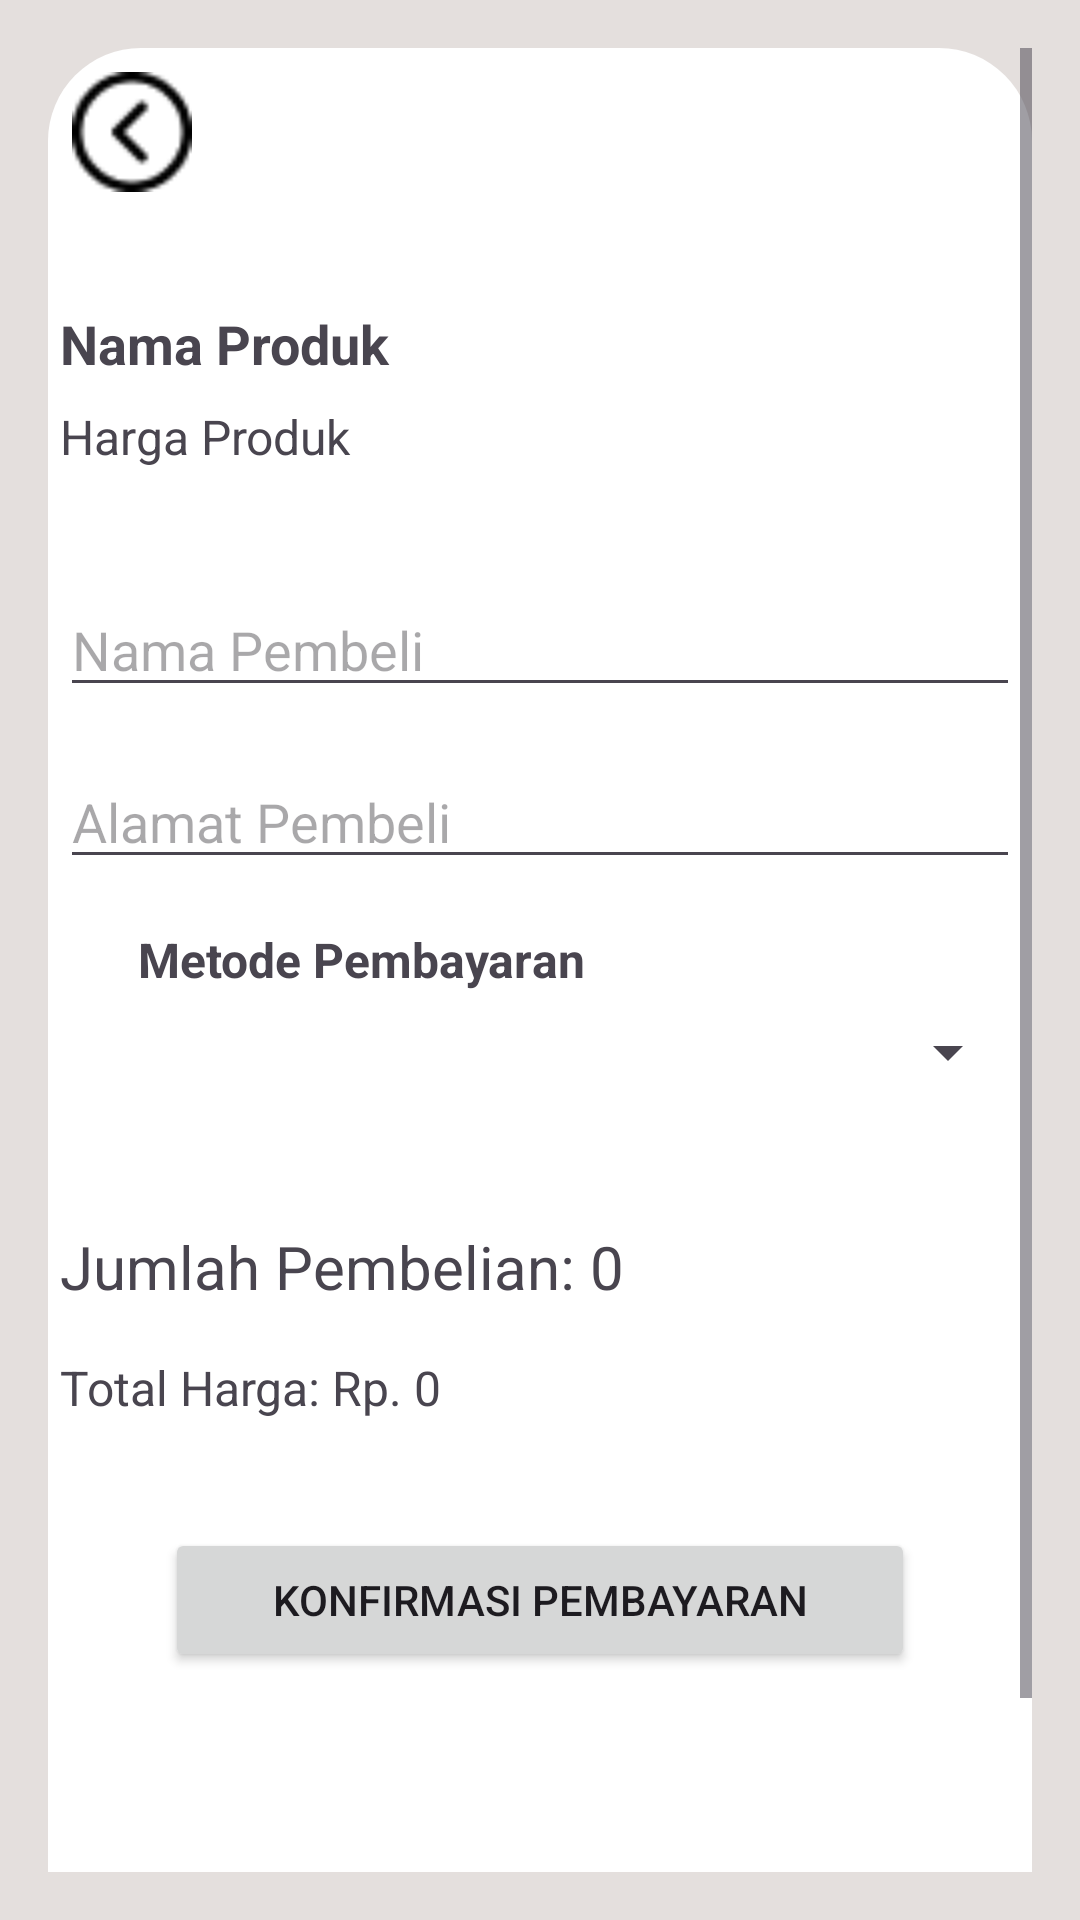

Where icons sit on this 1080w x 1920h app screen, as {"left": x1, "top": y1, "right": x2, "bottom": y2}:
Kembali: {"left": 72, "top": 72, "right": 192, "bottom": 192}
